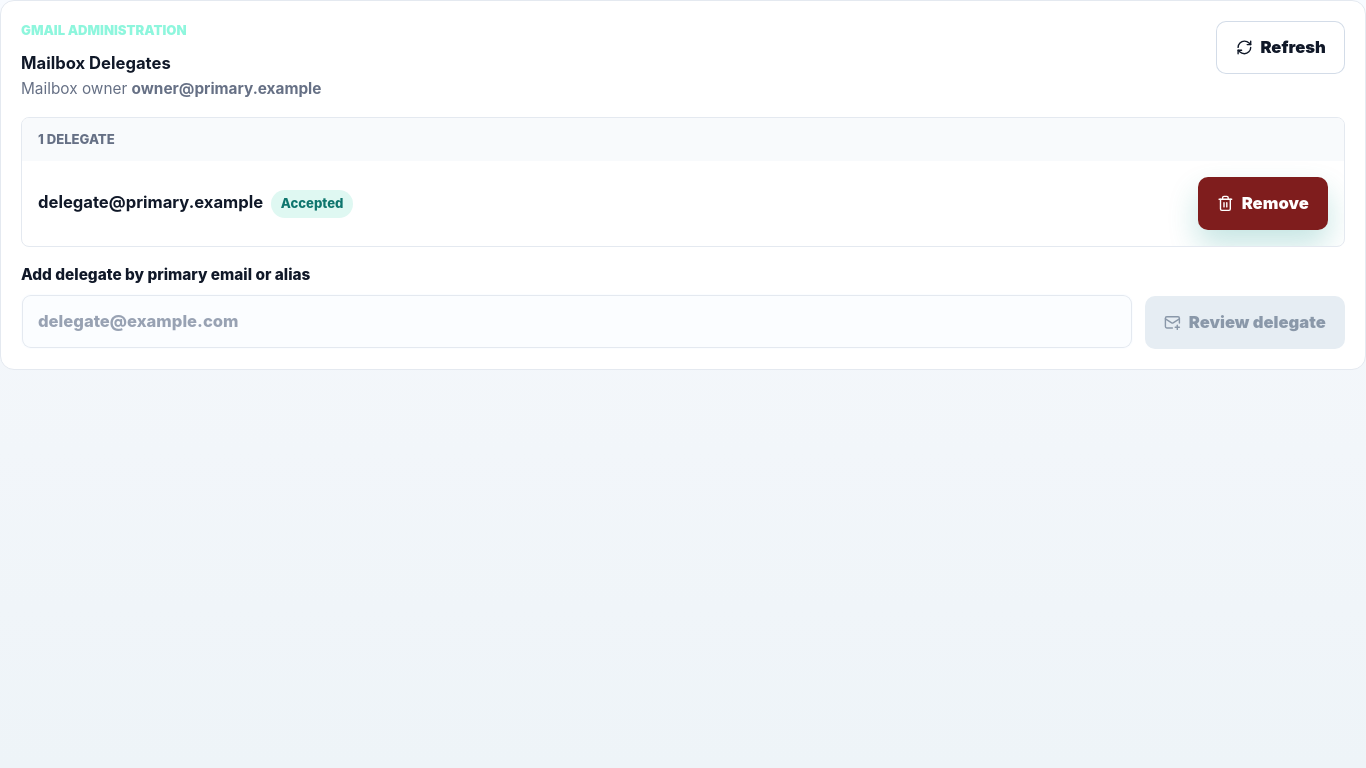
Test case: MailboxDelegates › automatically reconciles a timed-out create without resubmitting it
The width and height of the screenshot is (1366, 768).
expect the text "delegate@primary.example" is shown: met, box [38,190,263,218]
Type "canonical@primary.example" into the field labelled "Add delegate by primary email or alias". click: (577, 322)
box: [21,294,1133,349]
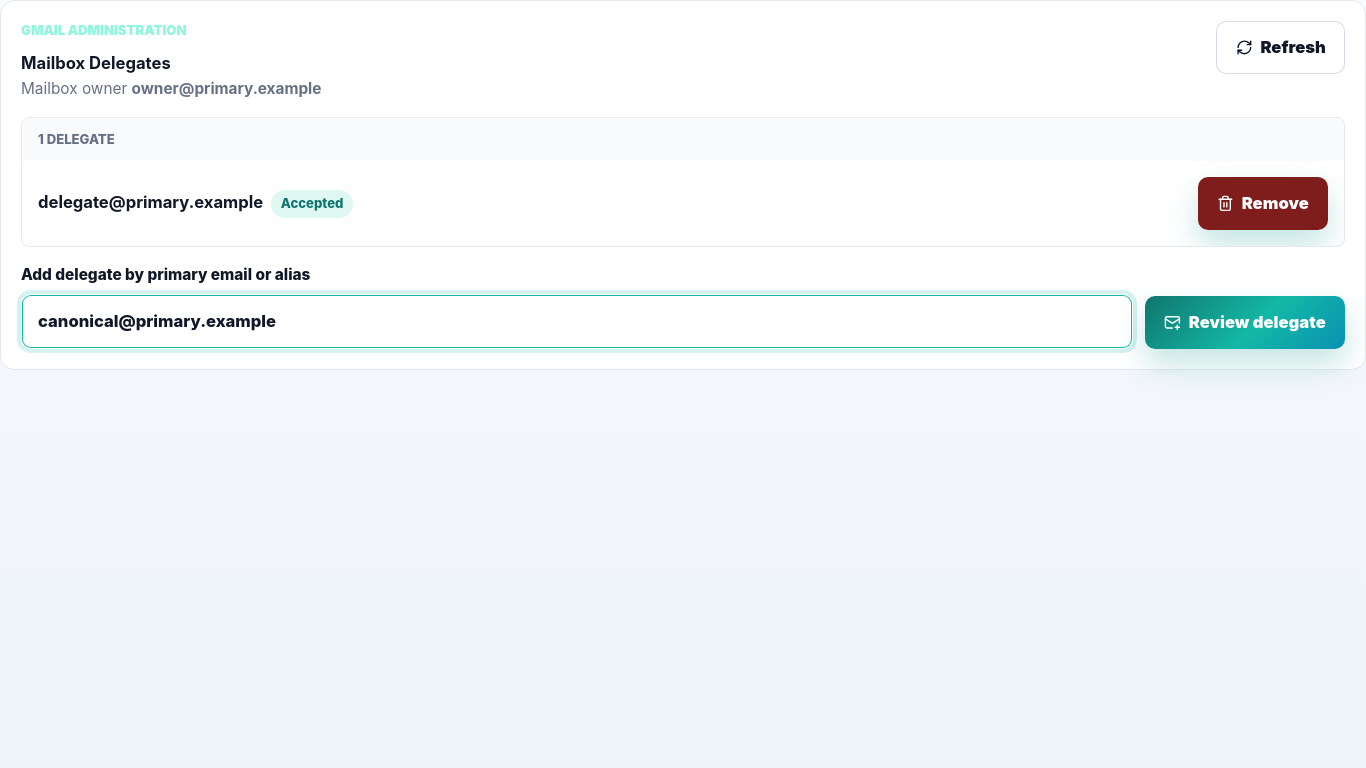
Click the button "Review delegate". click: click(1245, 323)
box: [1145,296,1345,349]
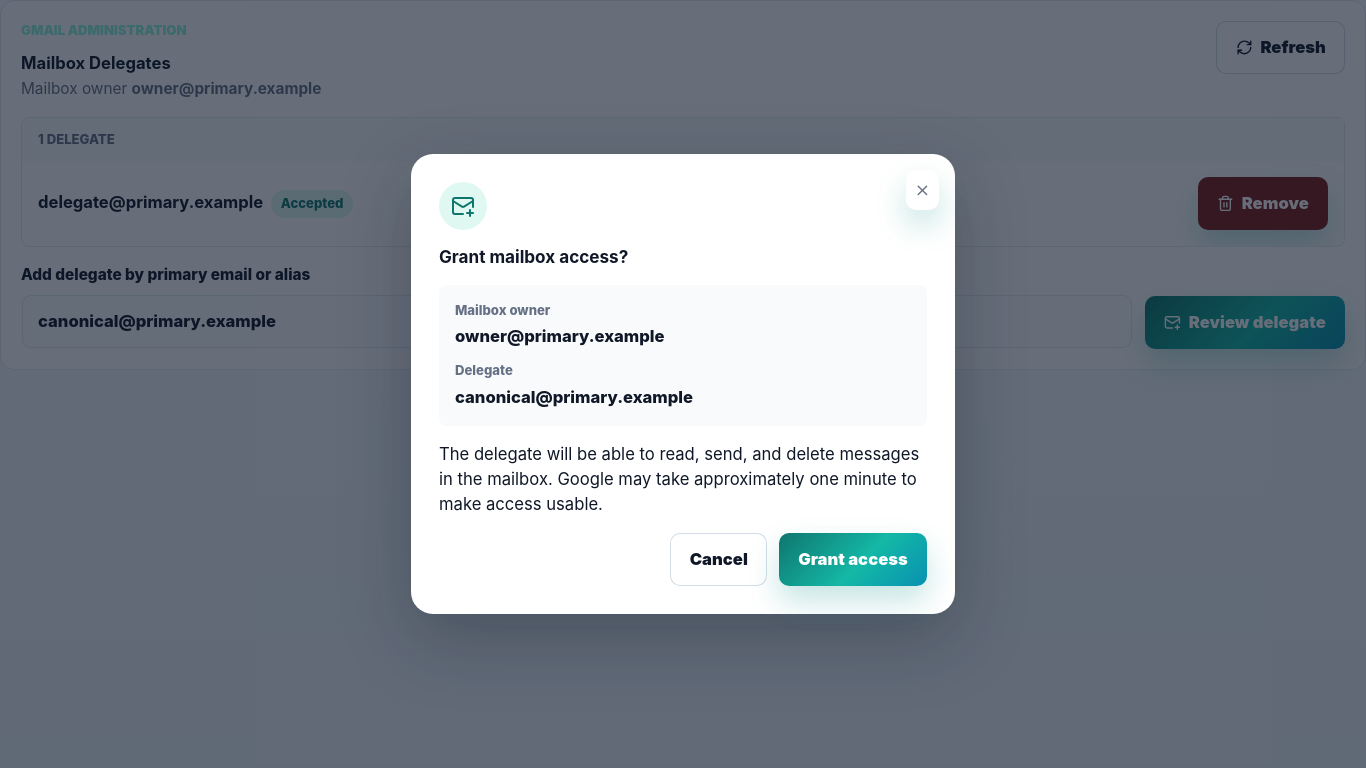
Click the button "Grant access". click: click(853, 559)
box: [779,533,927,586]
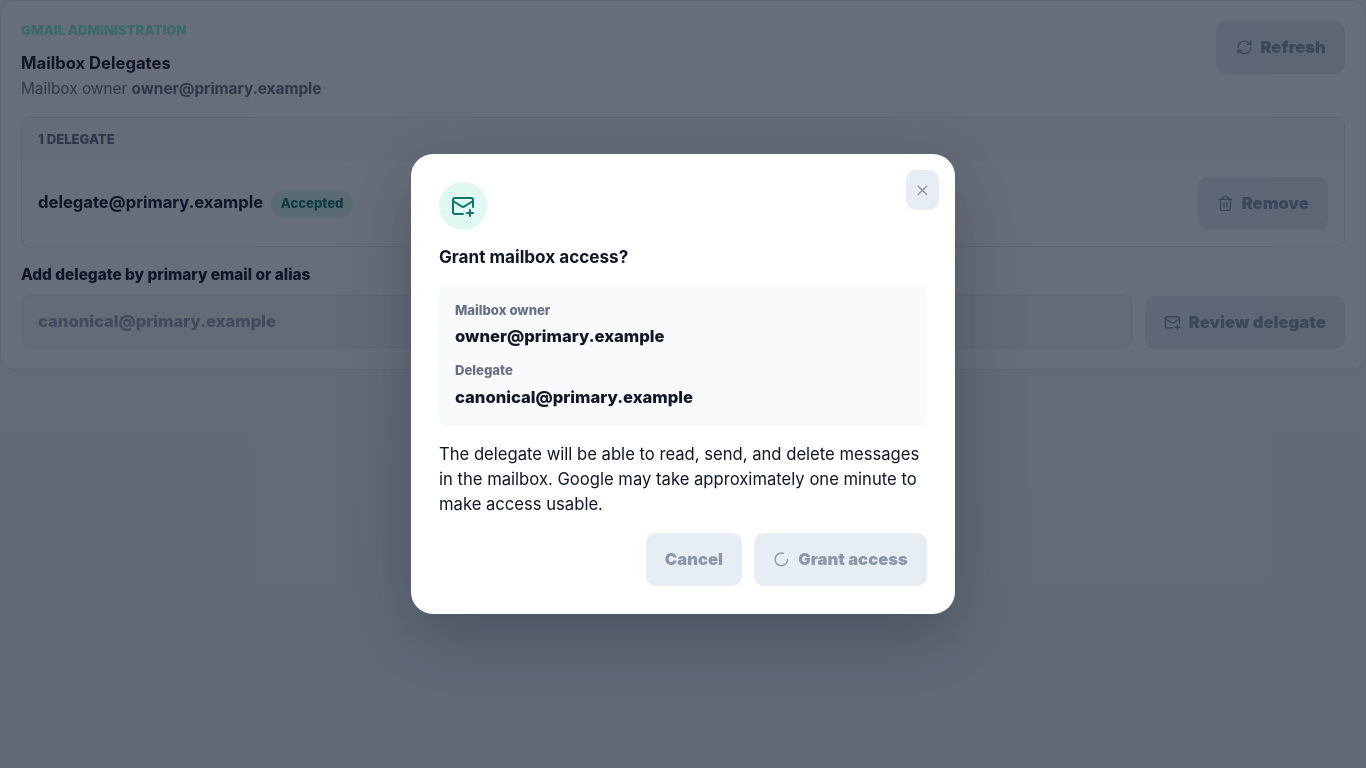
expect the button "Grant access" is disabled: met
Click the button "Grant access". click: click(841, 559)
box: [754,533,927,586]
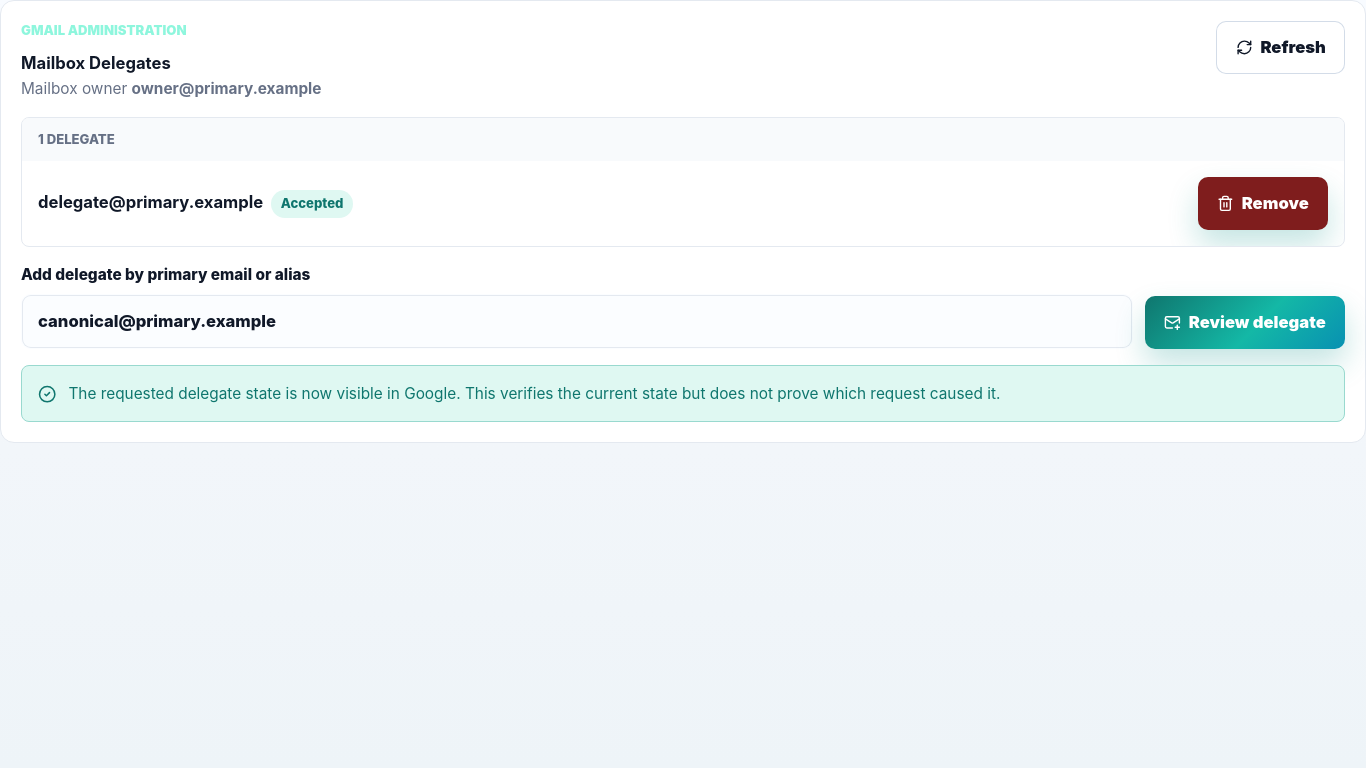
expect the text "requested delegate state is now visible" is shown: met, box [68,384,1000,403]
